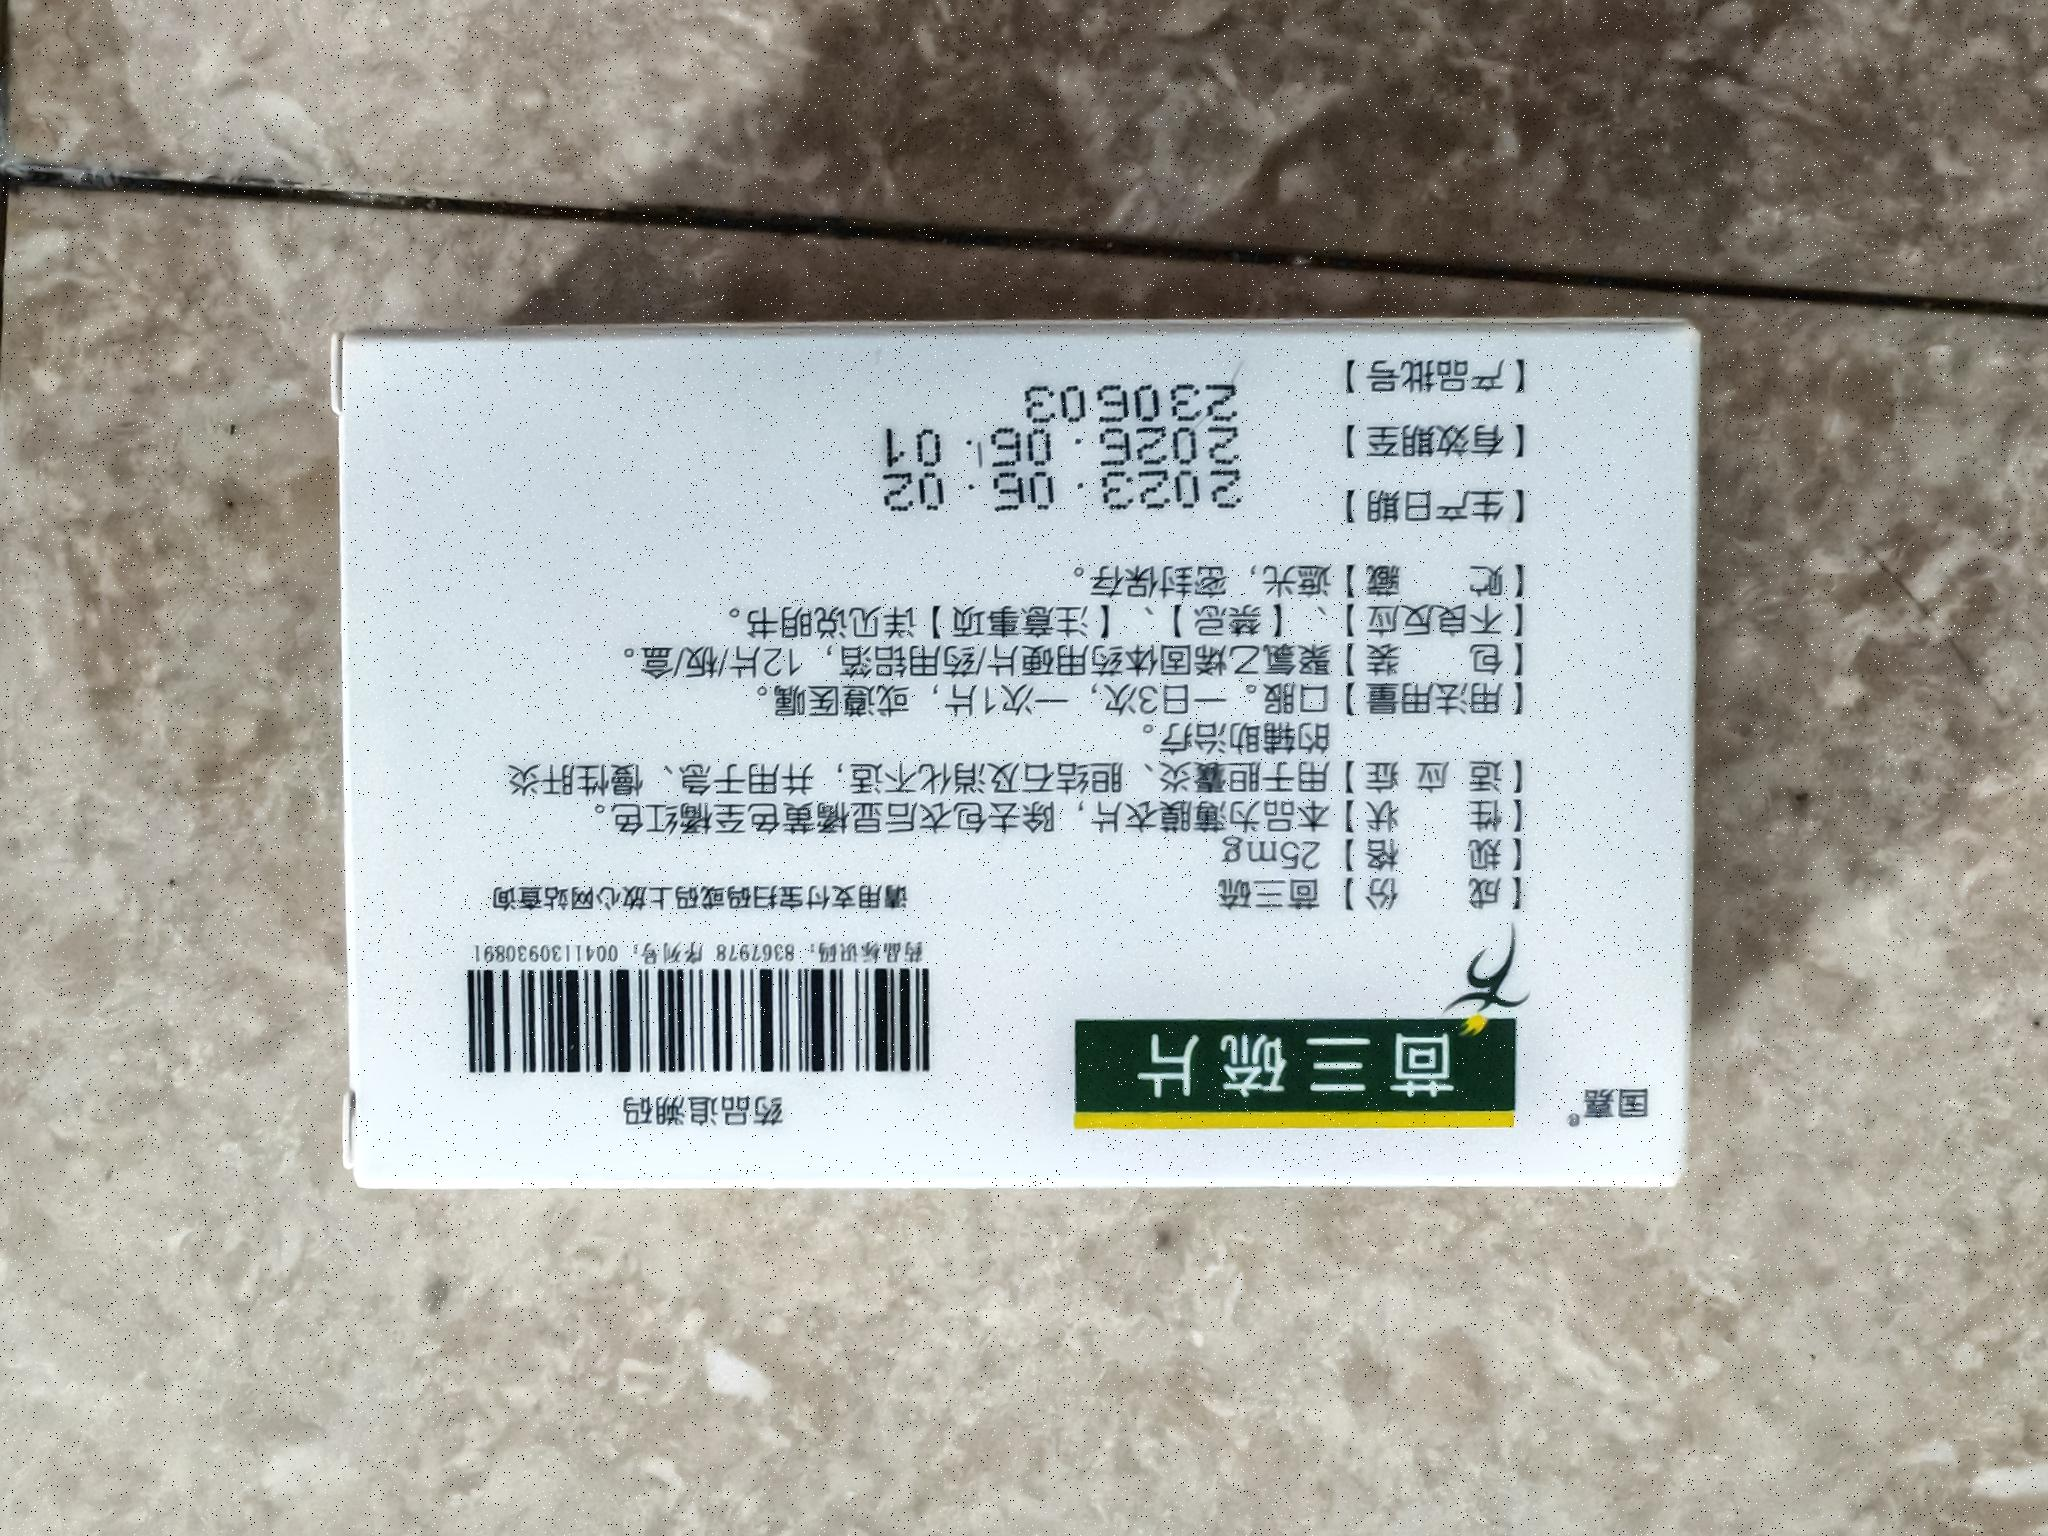Medicine4: (305, 292, 1730, 1233)
